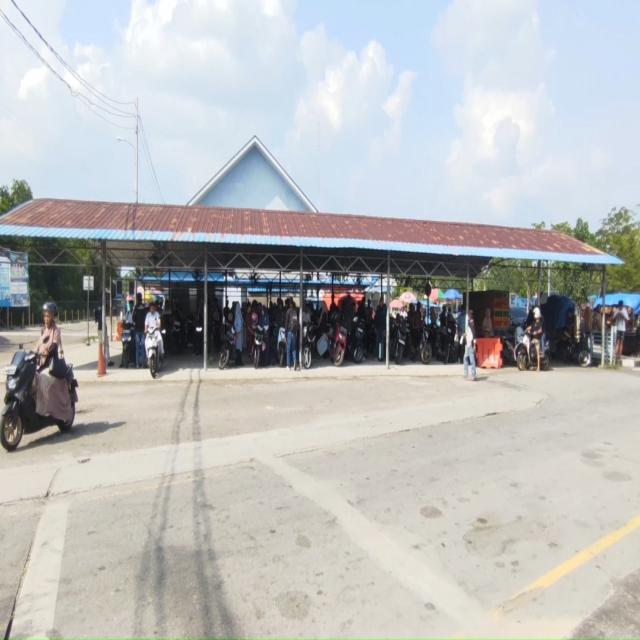Golongan II: (0, 345, 78, 451), (515, 327, 550, 371), (559, 336, 591, 367), (438, 322, 459, 364), (145, 327, 162, 378), (218, 322, 236, 370), (332, 317, 348, 366), (302, 322, 318, 370), (348, 319, 365, 364), (253, 324, 269, 369), (121, 323, 135, 369), (395, 316, 408, 365), (419, 323, 433, 364), (171, 318, 183, 355), (193, 320, 204, 356), (277, 327, 286, 368)
